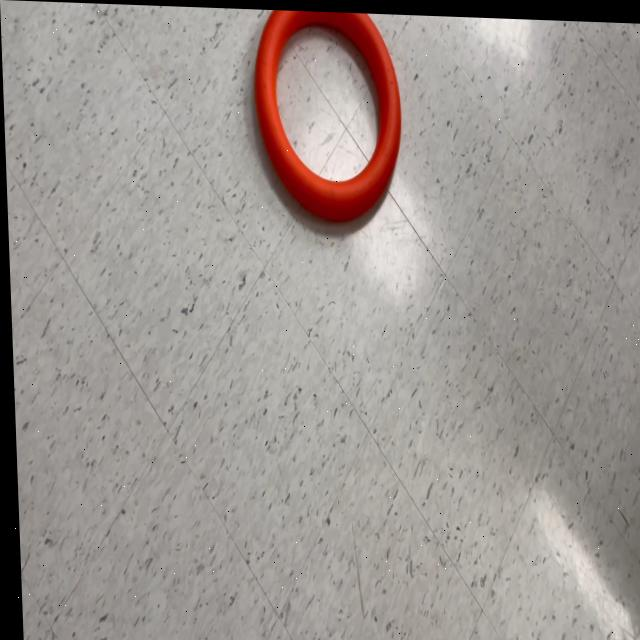note: (252, 7, 403, 225)
